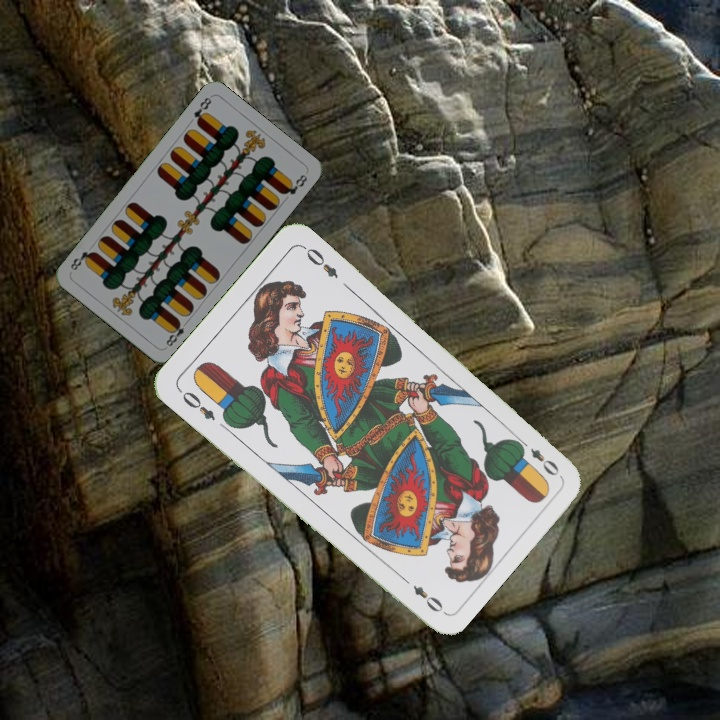E8: (162, 316, 191, 349), (190, 93, 214, 128)
EO: (513, 434, 562, 479), (174, 384, 218, 423)
